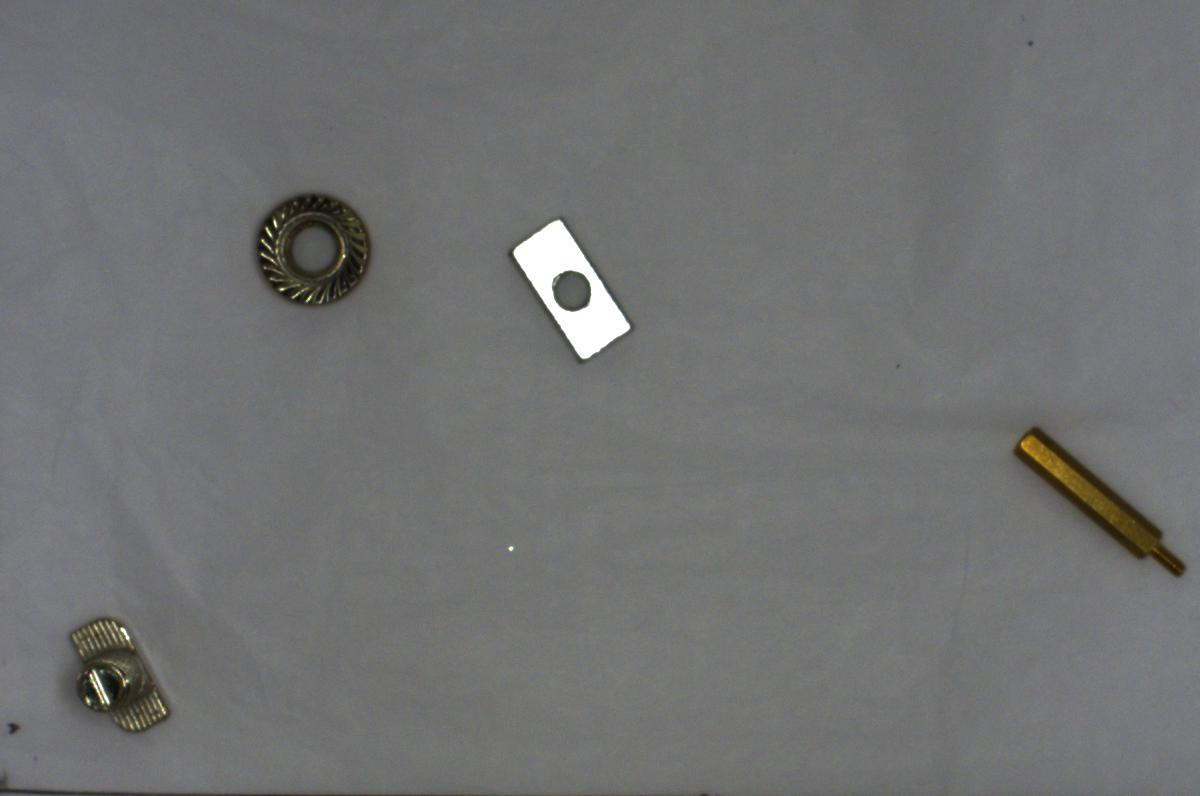Flange nut: (240, 183, 386, 319)
Hexagon pillar: (1011, 422, 1193, 580)
Rectangular nut: (506, 208, 638, 366)
T-shaped screw: (55, 603, 179, 741)
